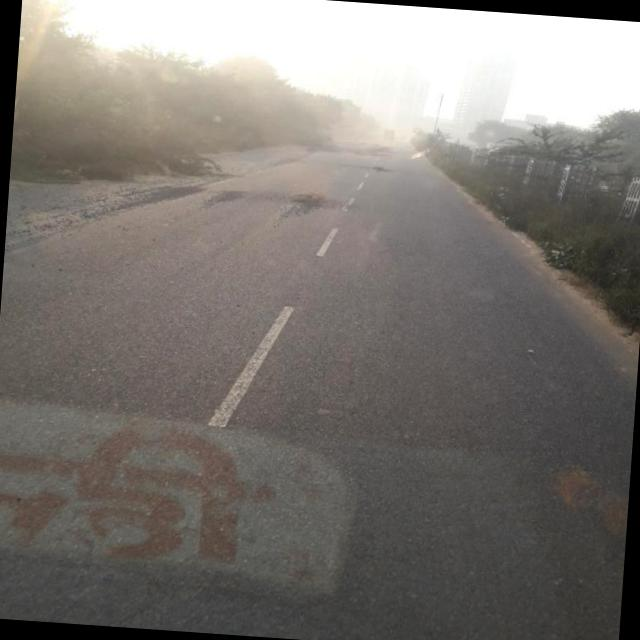crack: (269, 186, 330, 234), (202, 182, 248, 214)
